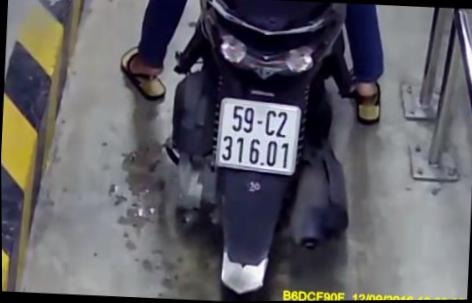LP: (214, 95, 303, 176)
